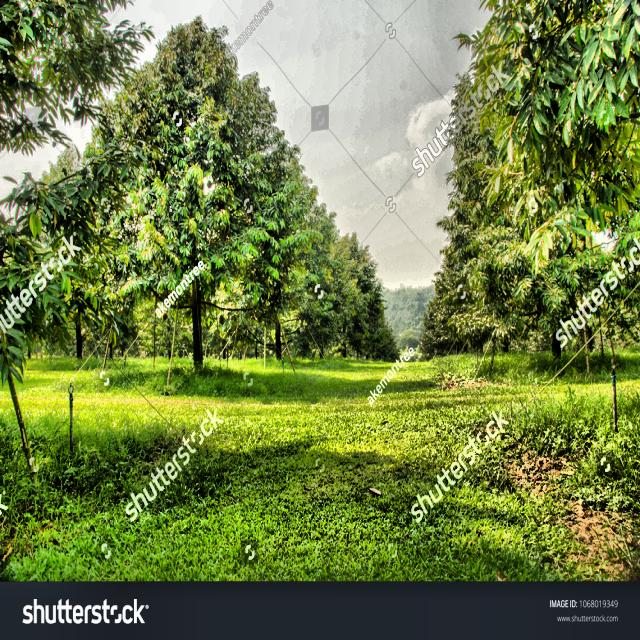arvore: (179, 185, 216, 382), (270, 268, 290, 373), (548, 276, 568, 361)
